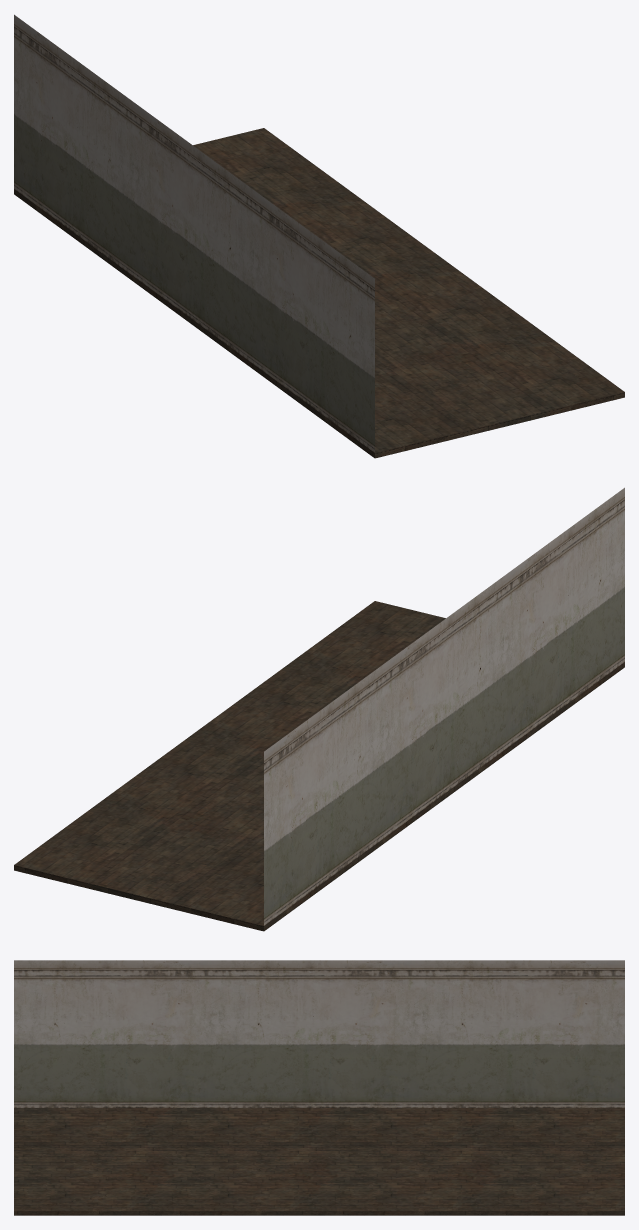
The model's file is hallway_oneside_right_15m.fbx.
The picture shows the model from 3 angles, top to bottom: view 1: azimuth 30°, elevation 25°; view 2: azimuth 150°, elevation 25°; view 3: azimuth 270°, elevation 25°; orthographic projection. The views are drawn at different scales.
Parts seen in each view (by area): view 1: hallway_oneside_right_15m; view 2: hallway_oneside_right_15m; view 3: hallway_oneside_right_15m.
Boxes of the visible parts, x1,y1,x2,y2 form: hallway_oneside_right_15m: (14,14,624,458); hallway_oneside_right_15m: (14,487,624,931); hallway_oneside_right_15m: (14,960,624,1215).
Size of the model in its own units: 600 by 412 by 1500.
